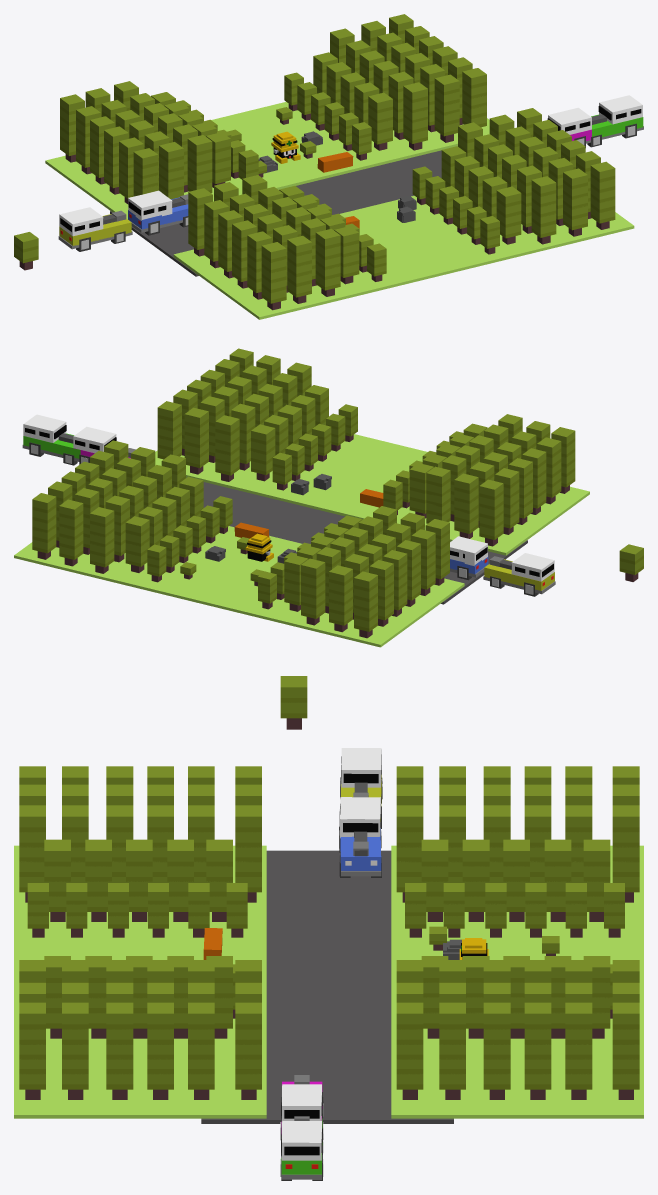
File: 216583618-IanGerardoHorcasitasPerez-Animacion.fbx
3 renders of one model, top to bottom at view 1: azimuth 30°, elevation 25°; view 2: azimuth 150°, elevation 25°; view 3: azimuth 270°, elevation 25°, orthographic. The views are drawn at different scales.
Visible parts, largest first — view 1: Cesped1.001, Cesped1, Cesped1.002, Car.004, Cube.071, Car.005, Car.001, Cube.025, Cube.094, Cube.022, Car.002; view 2: Cesped1, Cesped1.001, Cesped1.002, Car.004, Car.005, Cube.071, Car.001, Cube.094, Car.002; view 3: Cesped1.002, Cesped1.001, Cesped1, Car.005, Car.004, Car.001, Cube.025, Car.
Boxes of the visible parts, left/top/right/bottom form: Cesped1.001: left=173, top=195, right=634, bottom=319; Cesped1: left=45, top=102, right=489, bottom=219; Cesped1.002: left=110, top=150, right=441, bottom=276; Car.004: left=59, top=207, right=103, bottom=236; Cube.071: left=59, top=214, right=131, bottom=245; Car.005: left=599, top=95, right=642, bottom=124; Car.001: left=548, top=107, right=591, bottom=134; Cube.025: left=128, top=197, right=188, bottom=229; Cube.094: left=591, top=114, right=643, bottom=137; Cube.022: left=317, top=152, right=353, bottom=172; Car.002: left=128, top=191, right=172, bottom=220; Cesped1: left=14, top=526, right=464, bottom=647; Cesped1.001: left=155, top=434, right=589, bottom=555; Cesped1.002: left=186, top=477, right=527, bottom=604; Car.004: left=511, top=553, right=554, bottom=581; Car.005: left=23, top=414, right=66, bottom=442; Cube.071: left=484, top=559, right=554, bottom=590; Car.001: left=73, top=426, right=116, bottom=453; Cube.094: left=23, top=433, right=80, bottom=458; Car.002: left=450, top=536, right=487, bottom=566; Cesped1.002: left=201, top=850, right=453, bottom=1123; Cesped1.001: left=14, top=845, right=266, bottom=1118; Cesped1: left=391, top=845, right=643, bottom=1118; Car.005: left=282, top=1121, right=321, bottom=1160; Car.004: left=341, top=748, right=381, bottom=787; Car.001: left=282, top=1084, right=321, bottom=1121; Cube.025: left=340, top=828, right=381, bottom=870; Car: left=340, top=797, right=380, bottom=836.
Bounding box in the file's own units: 7903 × 808 × 4718.
